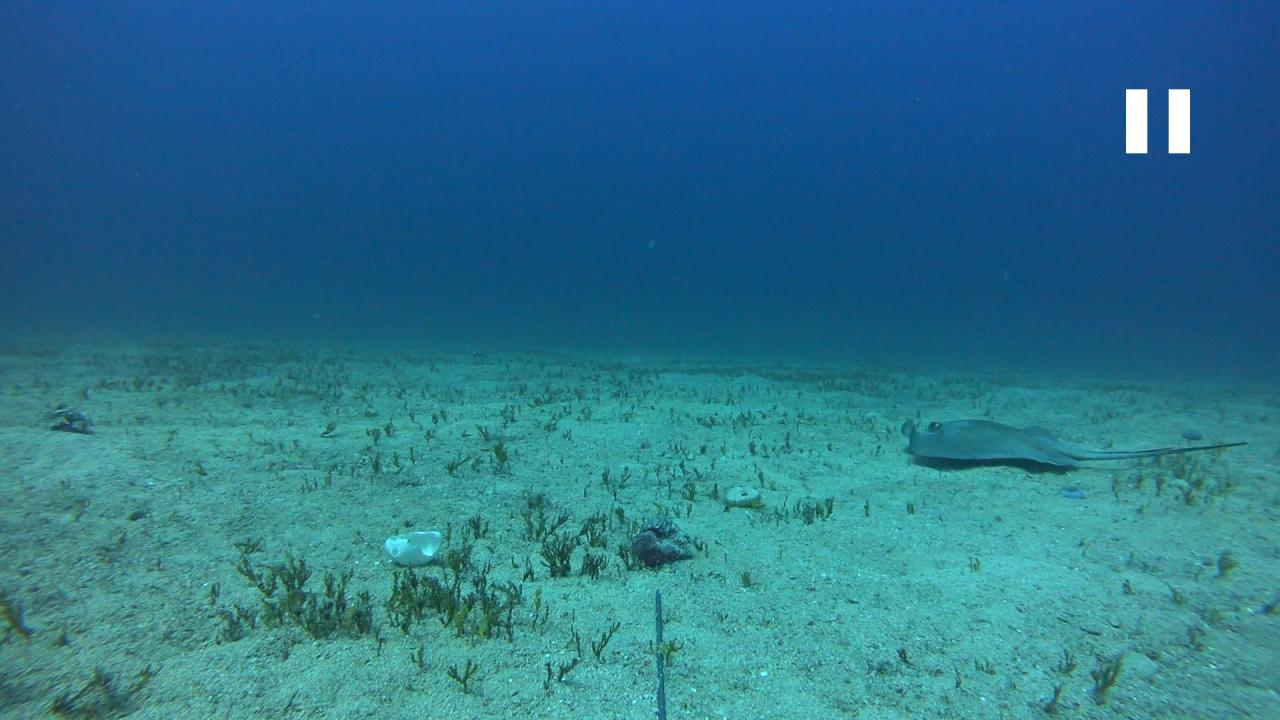dasyatis: (899, 416, 1248, 466)
